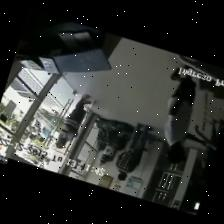person: (164, 68, 206, 163), (116, 123, 153, 180), (57, 94, 91, 148), (211, 119, 223, 144), (30, 119, 41, 138), (39, 126, 51, 141), (25, 118, 34, 134)
